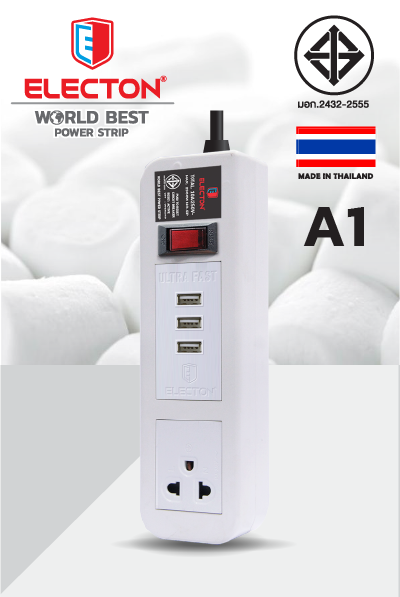Three_eye_plug: (128, 147, 283, 556)
